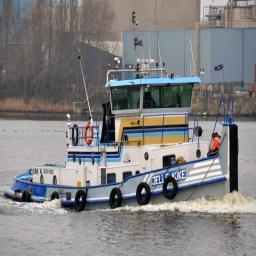tugboat: (4, 57, 242, 223)
